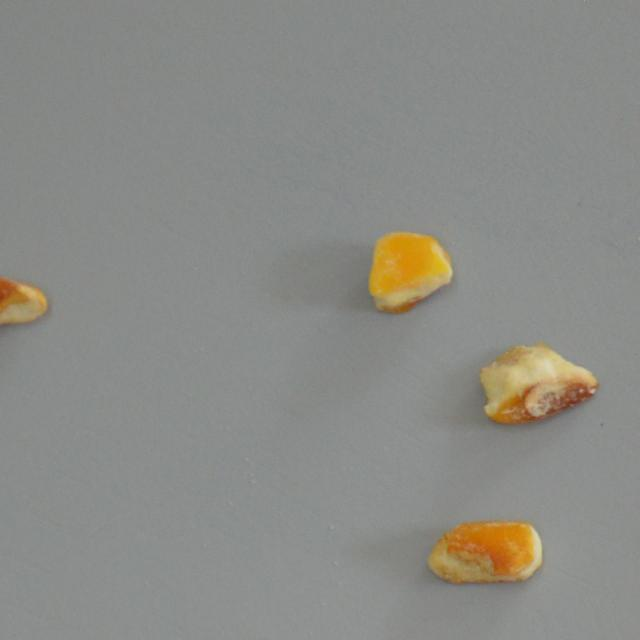dañado: (476, 339, 598, 426), (426, 513, 546, 590), (364, 226, 456, 315), (0, 270, 50, 338)
